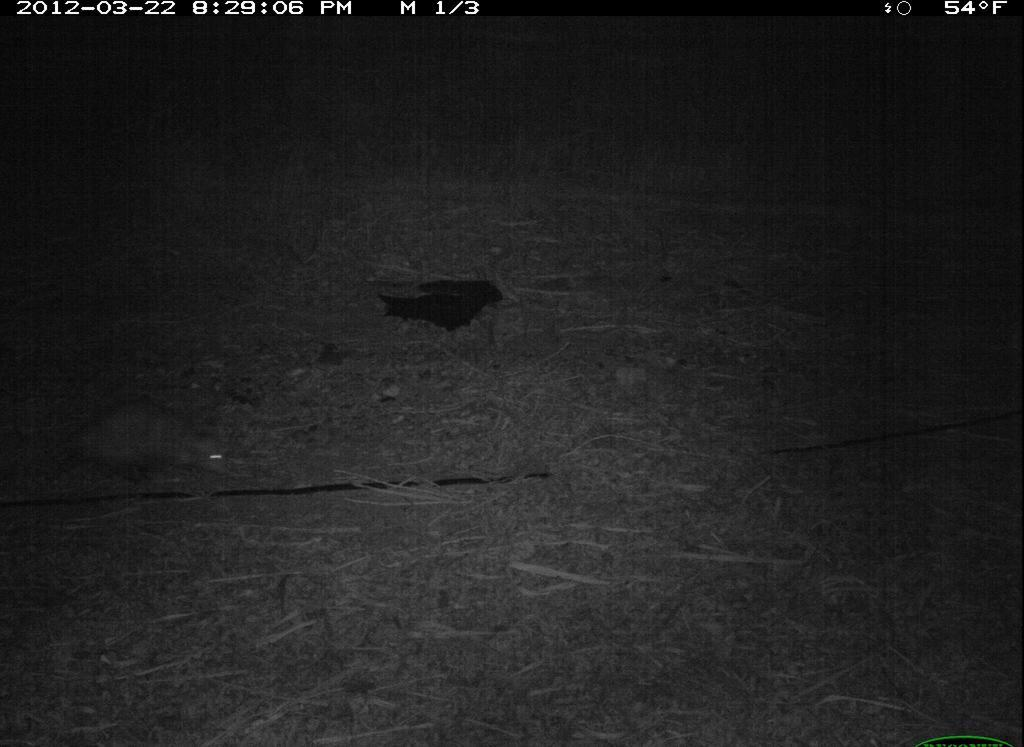opossum: (22, 385, 249, 513)
